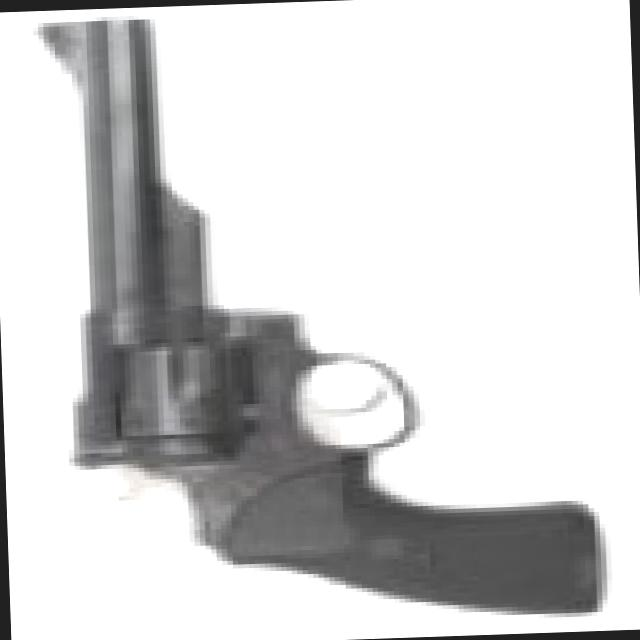handgun: (21, 3, 603, 639)
